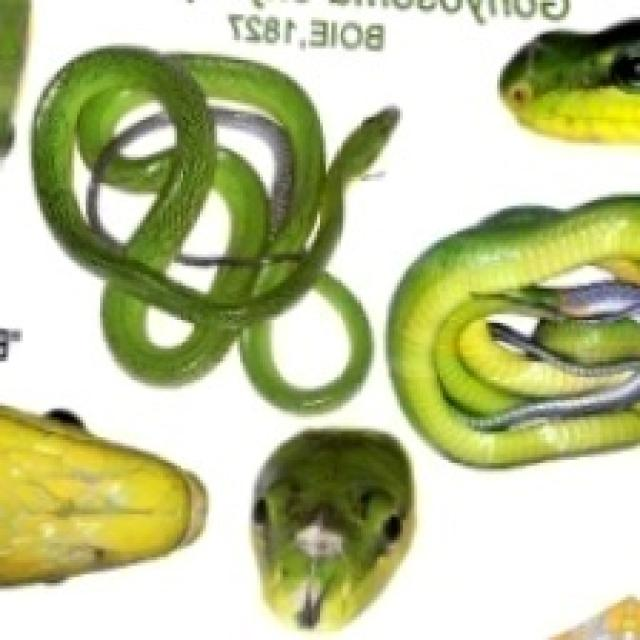red-tailed green ratsnake: (31, 49, 394, 409), (389, 197, 637, 463), (0, 406, 203, 583), (251, 429, 411, 626), (500, 20, 637, 140)
